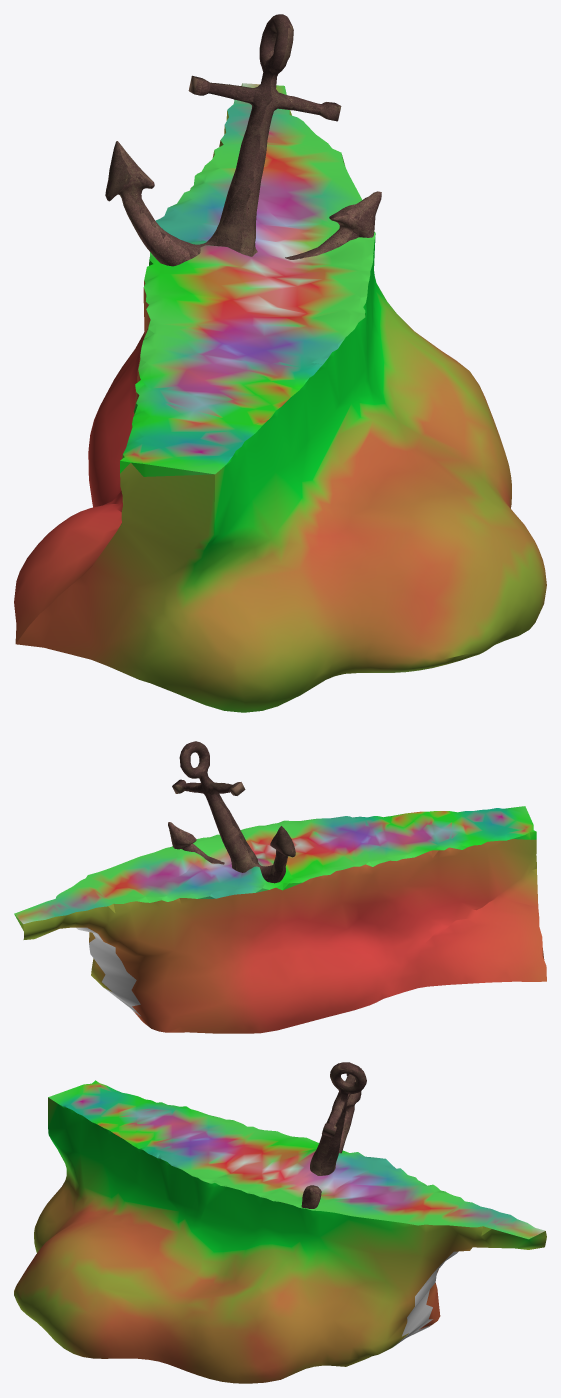
File: walkway-to-bar.fbx
The picture shows the model from 3 angles, top to bottom: view 1: azimuth 30°, elevation 25°; view 2: azimuth 150°, elevation 25°; view 3: azimuth 270°, elevation 25°; orthographic projection. The views are drawn at different scales.
Visible parts, largest first — view 1: BarGround, BarFloor, anchor; view 2: BarGround, BarFloor, anchor; view 3: BarGround, BarFloor, anchor.
Part boxes in pixels (x1,y1,x2,y2): BarGround: (14, 83, 546, 712); BarFloor: (120, 83, 375, 476); anchor: (105, 14, 381, 266); BarGround: (14, 839, 546, 1033); BarFloor: (14, 806, 536, 923); anchor: (168, 741, 295, 883); BarGround: (14, 1097, 546, 1383); BarFloor: (48, 1080, 545, 1239); anchor: (301, 1062, 366, 1208).
Bounding box in the file's own units: 2305 × 1747 × 2981.
